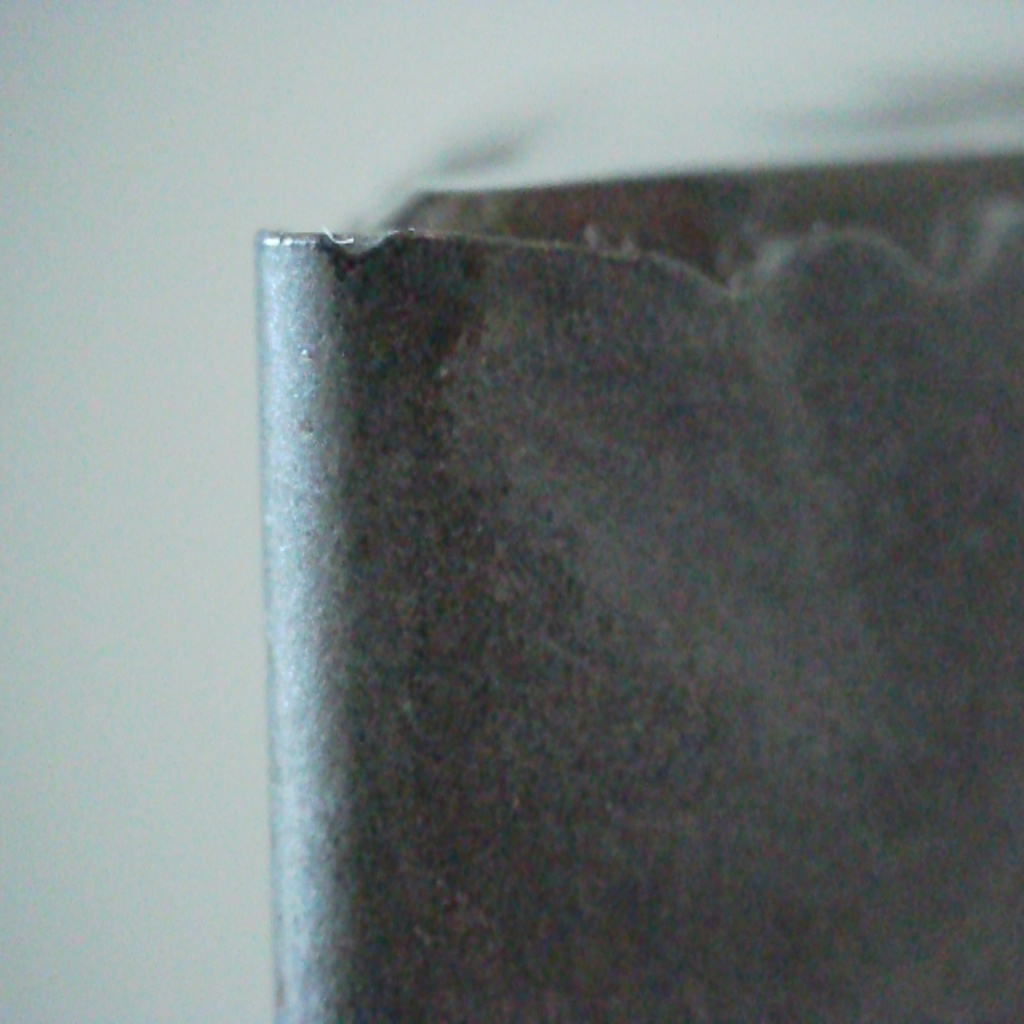flank_wear: (308, 219, 417, 273)
